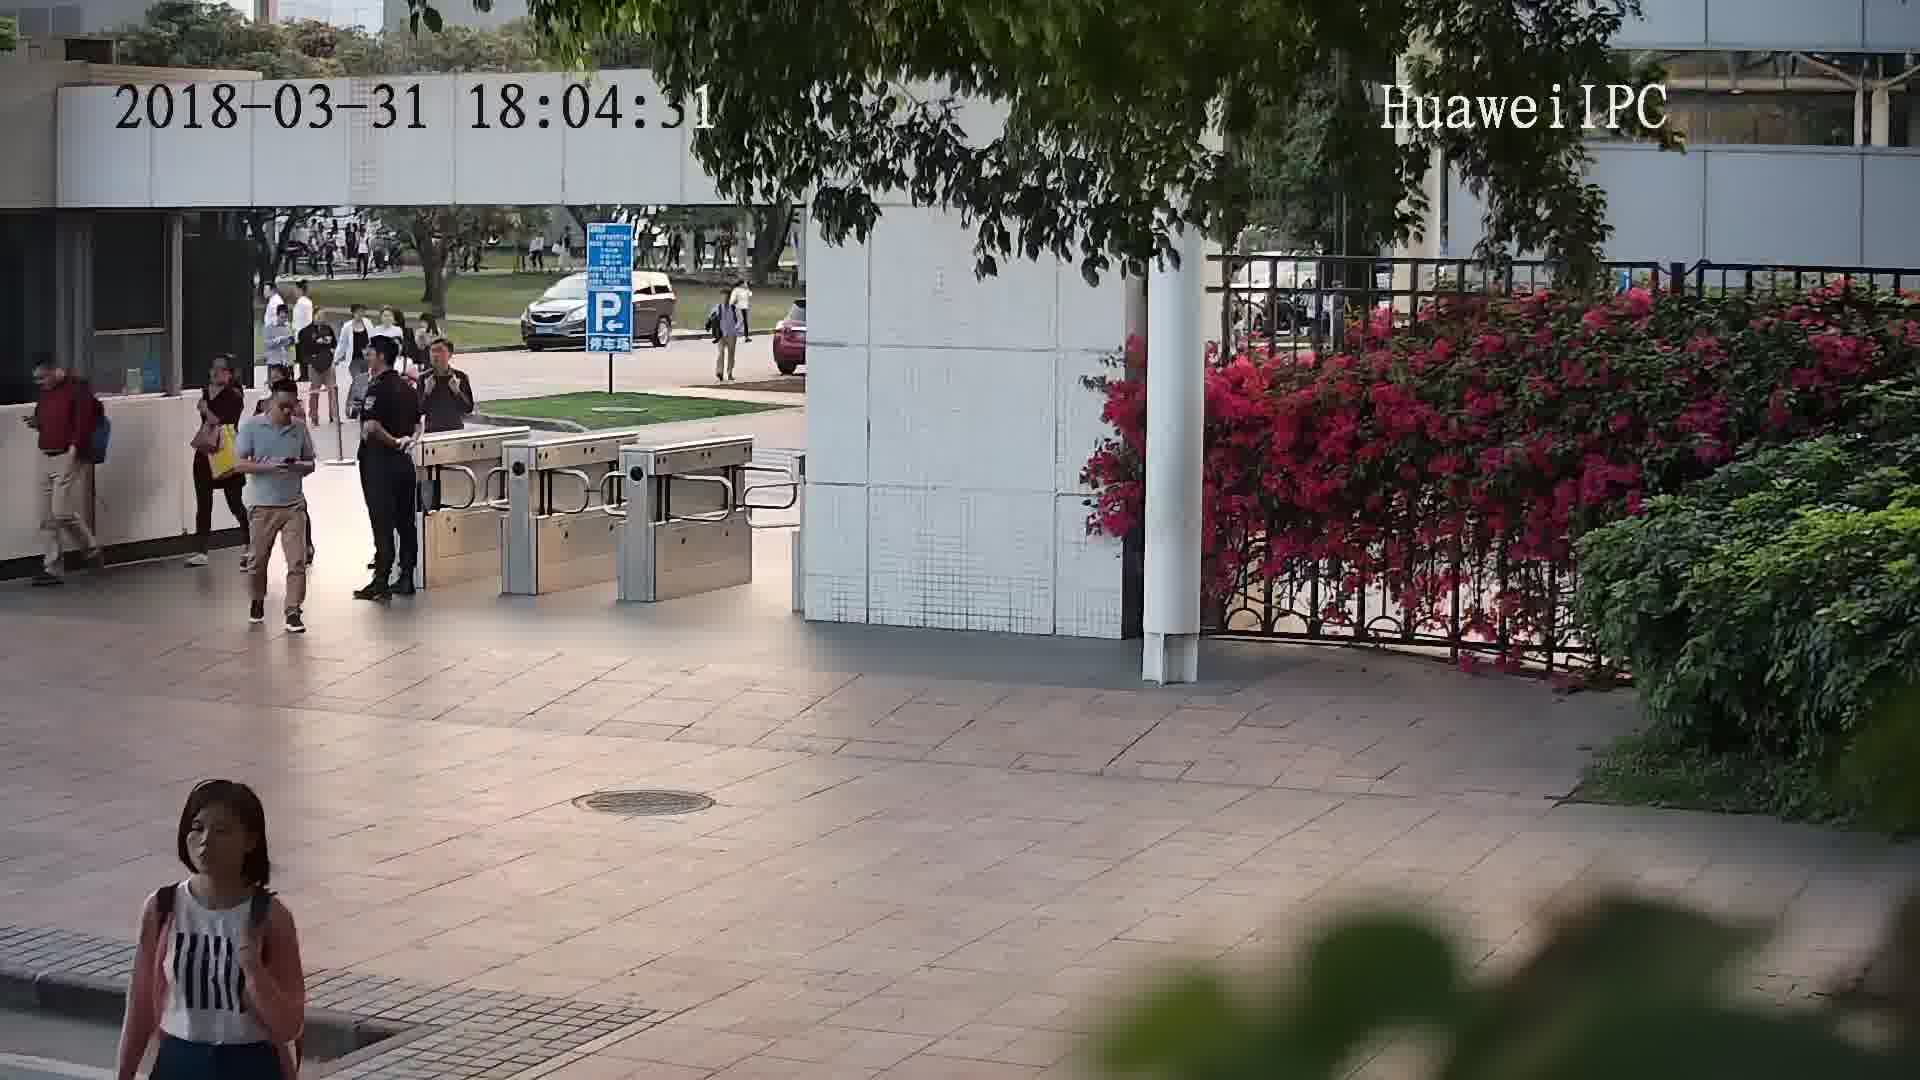face: (177, 799, 253, 875)
person: (144, 775, 294, 936), (245, 380, 308, 440), (28, 352, 91, 407), (362, 334, 412, 395), (198, 352, 245, 408), (424, 337, 470, 385), (341, 300, 375, 335), (301, 302, 334, 335), (376, 304, 410, 336), (265, 302, 296, 338), (289, 275, 317, 310), (712, 287, 744, 316), (258, 278, 288, 306), (730, 274, 752, 295)
